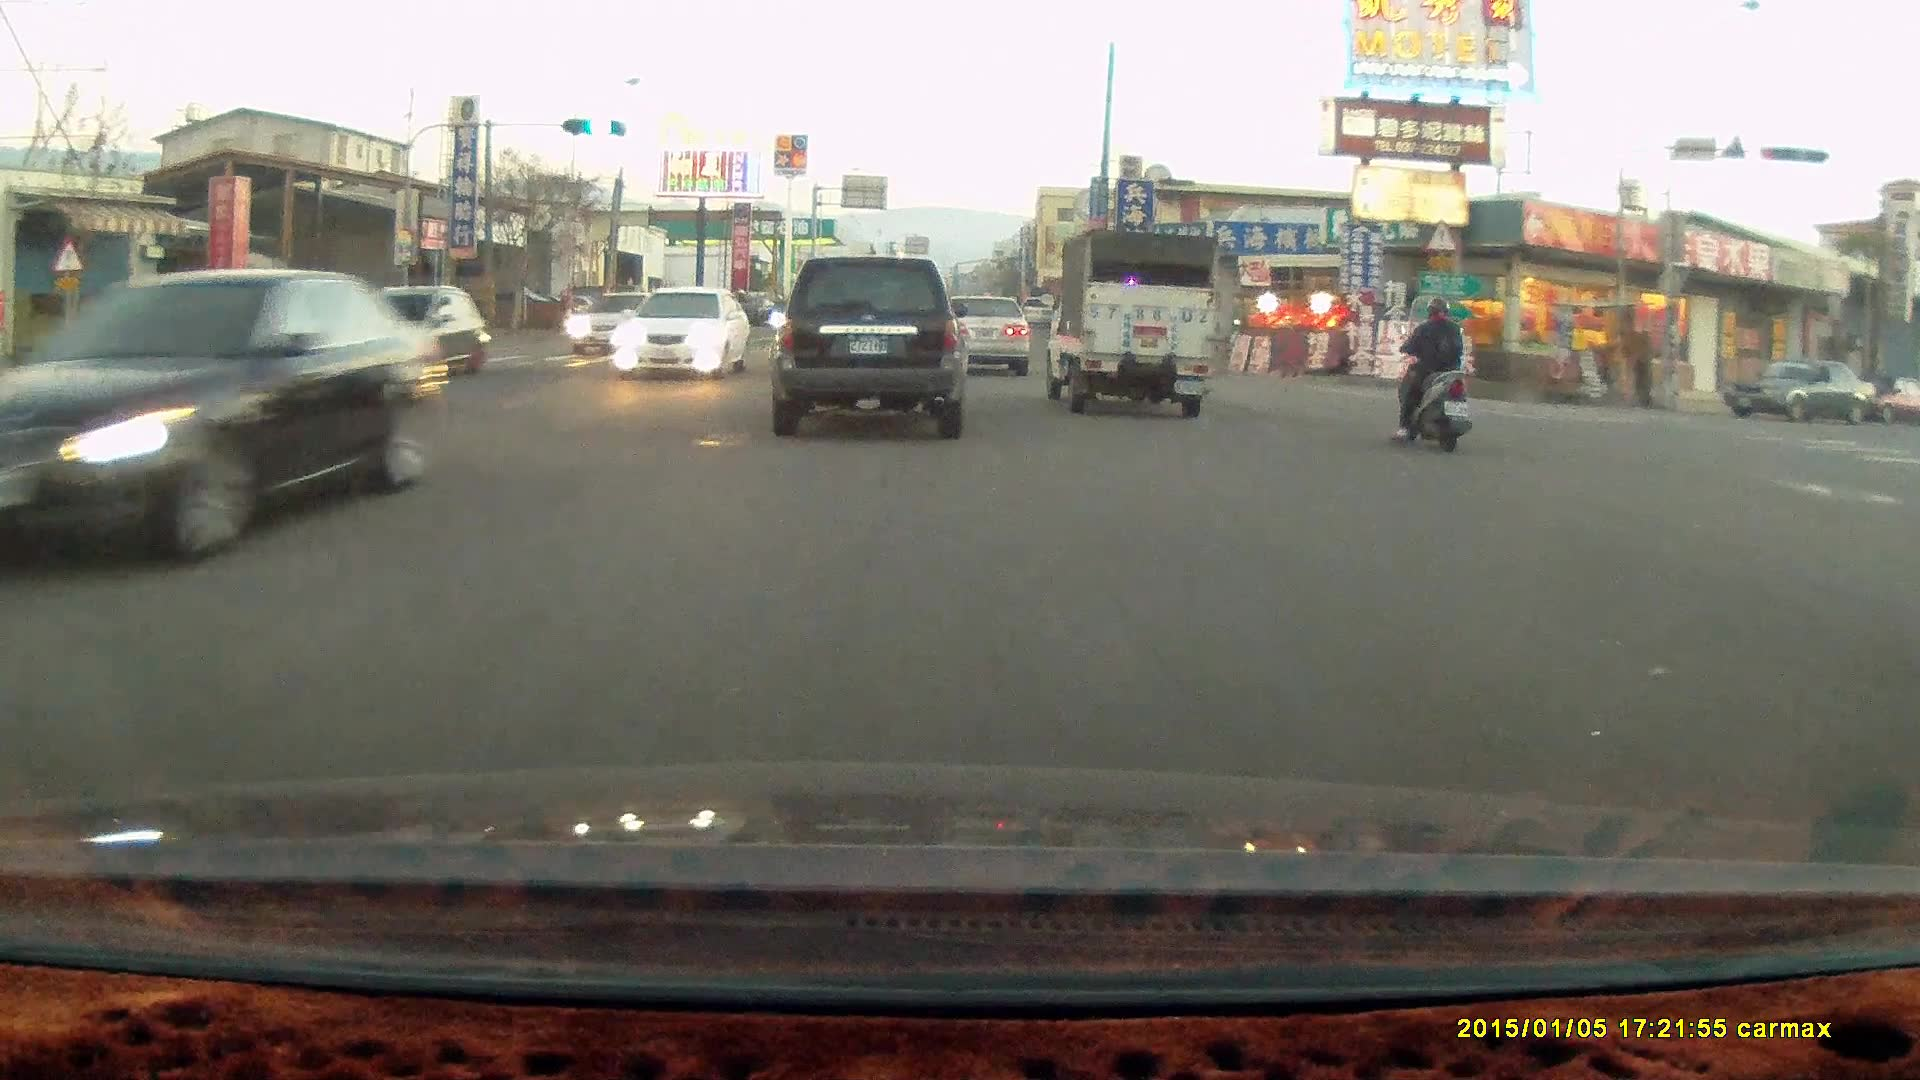rider: (1389, 291, 1475, 451)
vehicle: (2, 269, 448, 591), (766, 254, 969, 439), (1038, 227, 1217, 417), (317, 286, 491, 380), (617, 288, 753, 380), (1723, 357, 1879, 426), (929, 289, 1031, 376), (941, 293, 1033, 380), (567, 289, 674, 362), (270, 284, 395, 335)
